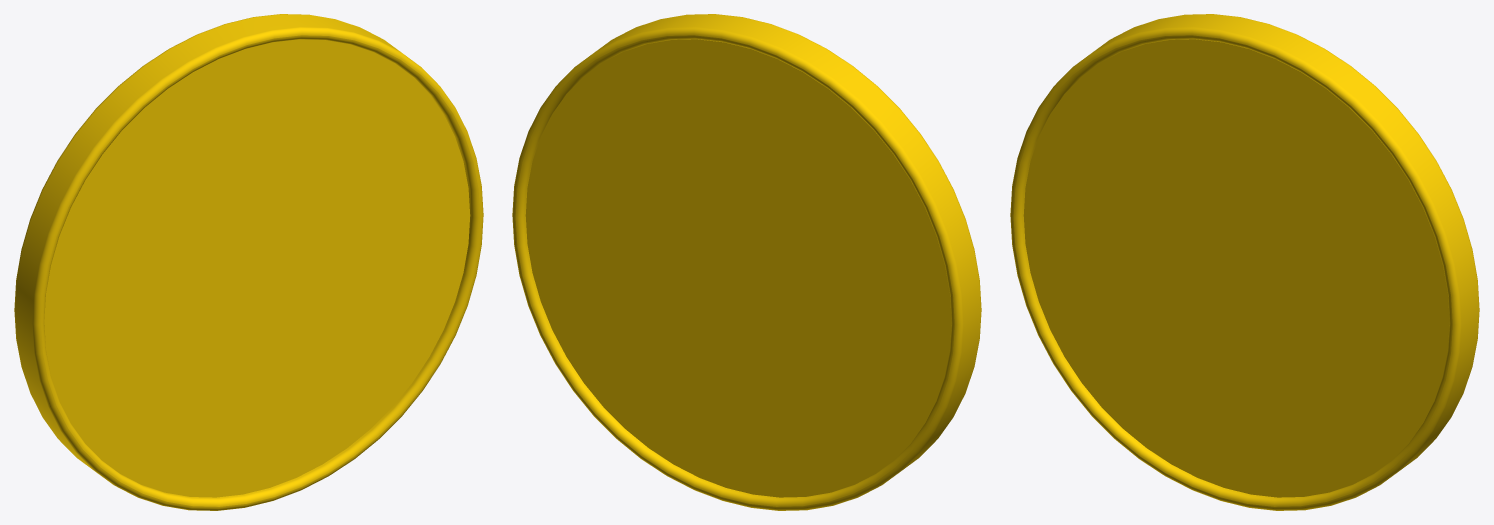
File: gold_coin.glb
3 views of the same model, side by side, from view 1: azimuth 30°, elevation 25°; view 2: azimuth 150°, elevation 25°; view 3: azimuth 330°, elevation 25° (orthographic).
Parts seen in each view (by area): view 1: pCylinder1; view 2: pCylinder1; view 3: pCylinder1.
Part boxes in pixels (x1,y1,x2,y2): pCylinder1: [14, 14, 483, 510]; pCylinder1: [512, 14, 981, 510]; pCylinder1: [1010, 14, 1479, 510].
Bounding box in the file's own units: 0.3155 × 0.3148 × 0.0286.
